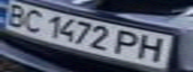1: (39, 12, 63, 39)
2: (90, 23, 115, 53)
4: (54, 16, 78, 43)
7: (72, 19, 93, 47)
B: (0, 1, 33, 28)
C: (18, 7, 48, 34)
H: (133, 34, 172, 64)
P: (112, 28, 145, 57)
